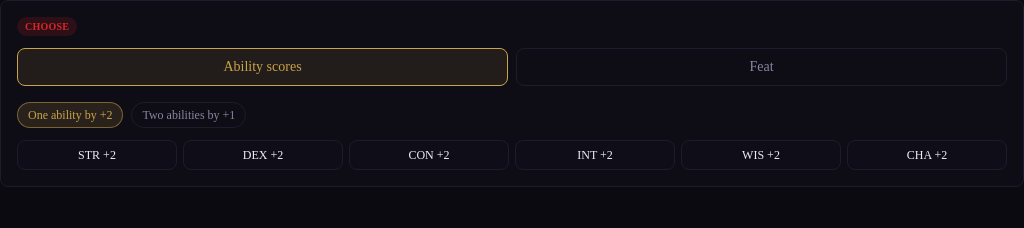
Test: ChoiceCardASI › keeps a partial split local until both abilities are chosen
Click the button "Two abilities by +1" at (189, 115), box left=131, top=102, right=246, bottom=128
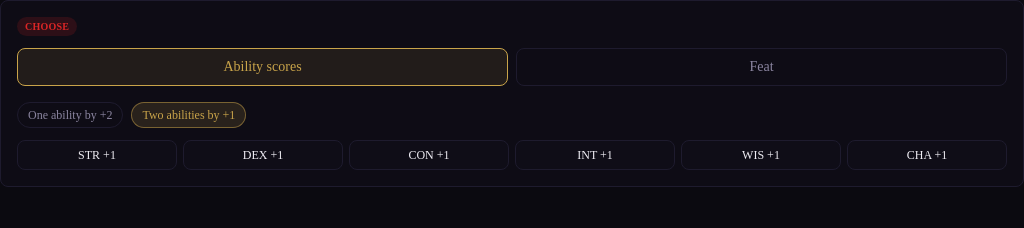
Click the button "STR +1" at (97, 155), box left=17, top=140, right=177, bottom=170
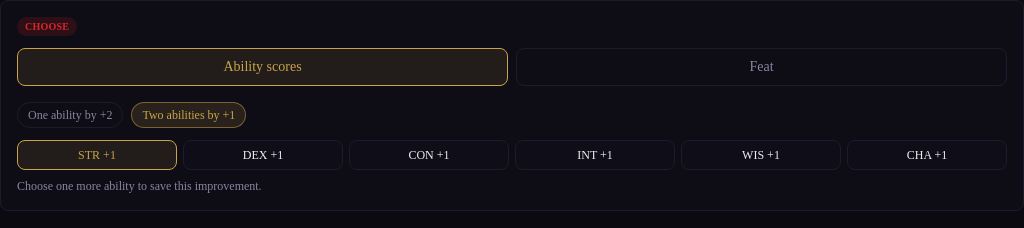
Result: the text "Choose one more ability to save this improvement." is shown at left=17, top=179, right=262, bottom=193
